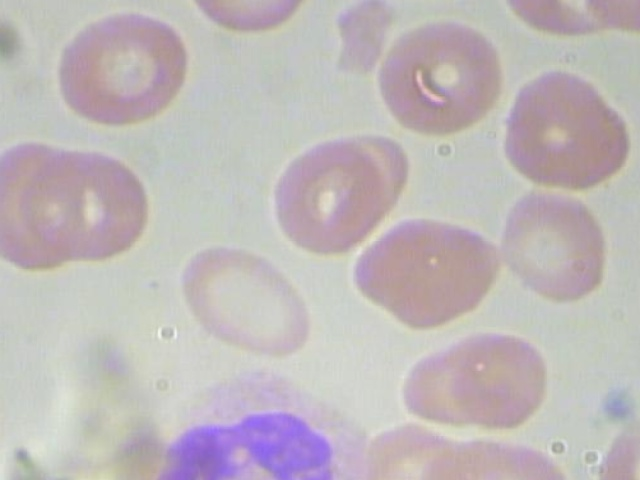RBC: (32, 3, 199, 137), (493, 174, 640, 317), (491, 60, 639, 201), (265, 130, 420, 264), (353, 11, 504, 147), (347, 213, 517, 332), (168, 239, 319, 368), (396, 330, 559, 440), (21, 149, 155, 266), (0, 126, 85, 275), (172, 0, 333, 39)
WBC: (109, 365, 406, 480)
